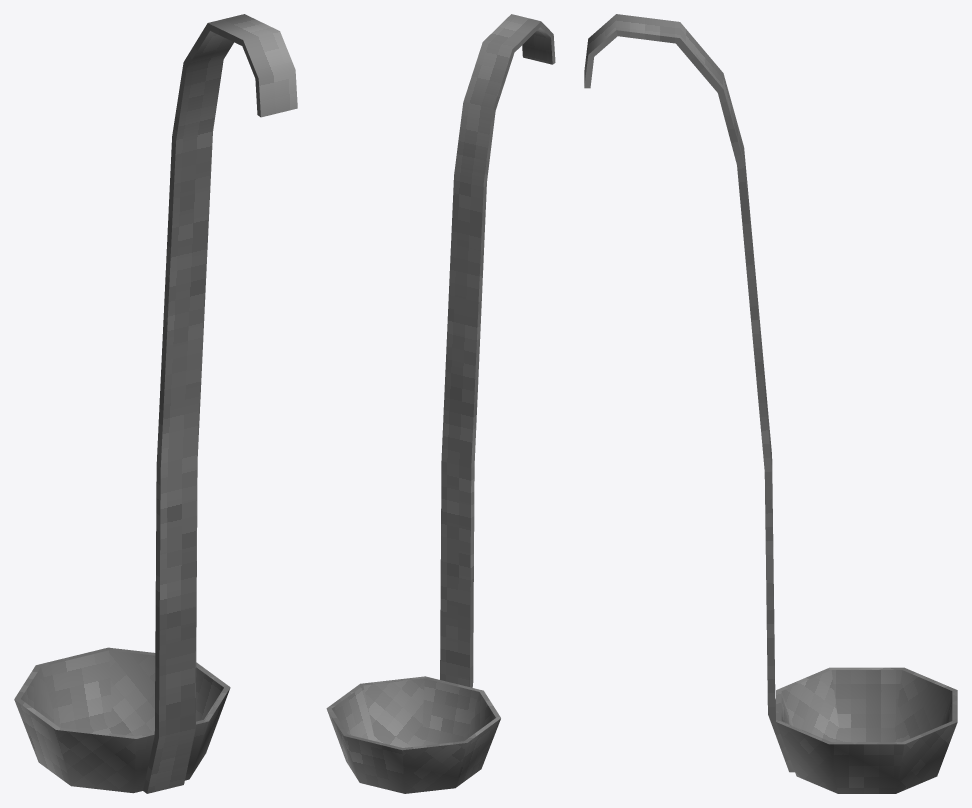
File: ladle.obj
3 renders of one model, left to right at view 1: azimuth 30°, elevation 25°; view 2: azimuth 150°, elevation 25°; view 3: azimuth 270°, elevation 25°, orthographic. The views are drawn at different scales.
Parts seen in each view (by area): view 1: ladle; view 2: ladle; view 3: ladle.
Boxes of the visible parts, x1,y1,x2,y2 form: ladle: [14, 14, 297, 793]; ladle: [326, 14, 555, 793]; ladle: [584, 14, 957, 793].
Bounding box in the file's own units: 0.0947 × 0.4439 × 0.1947.
